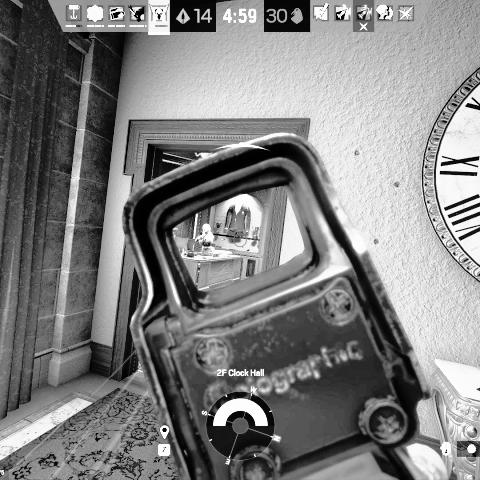Character: (194, 223, 215, 252)
Head: (202, 224, 211, 235)
